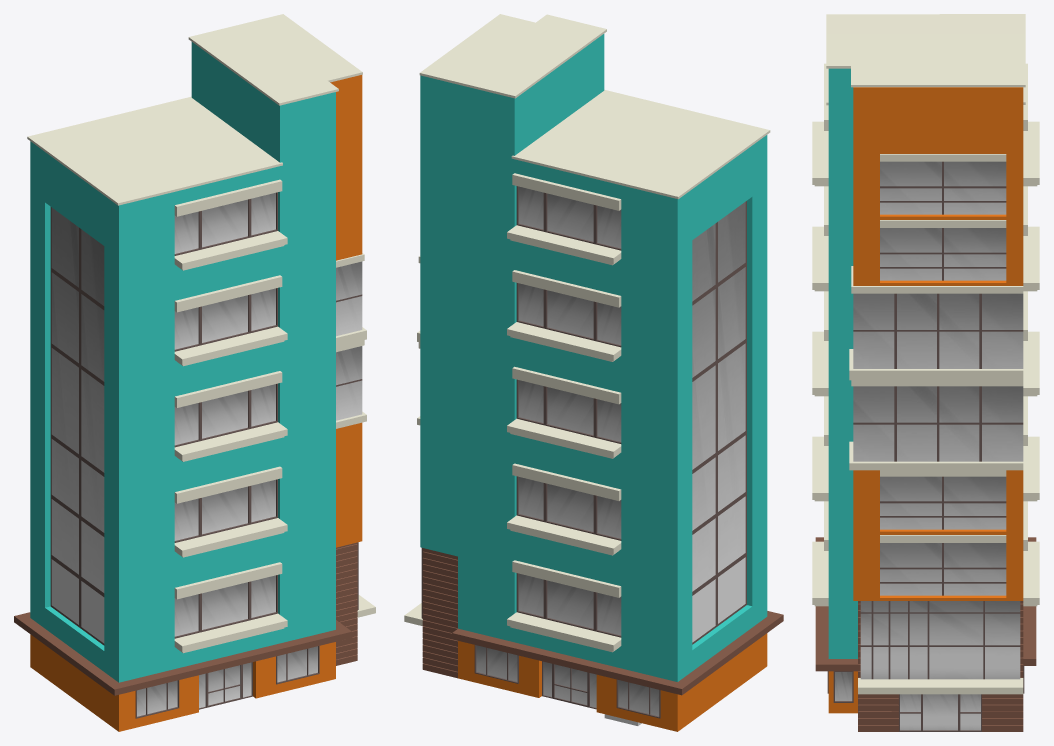
The model's file is Panelhaz.glb.
3 renders of one model, left to right at view 1: azimuth 30°, elevation 25°; view 2: azimuth 150°, elevation 25°; view 3: azimuth 270°, elevation 25°, orthographic. The views are drawn at different scales.
Parts seen in each view (by area): view 1: Stylised low poly building, Cube.054; view 2: Stylised low poly building, Cube.054; view 3: Stylised low poly building, Cube.054.
Boxes of the visible parts, x1,y1,x2,y2 form: Stylised low poly building: (14, 14, 375, 731); Cube.054: (50, 192, 362, 718); Stylised low poly building: (404, 14, 783, 731); Cube.054: (421, 186, 746, 718); Stylised low poly building: (812, 14, 1039, 731); Cube.054: (827, 161, 1024, 731).
Size of the model in its own units: 17.06 by 35.31 by 10.92.
3 materials, 2 textured.
